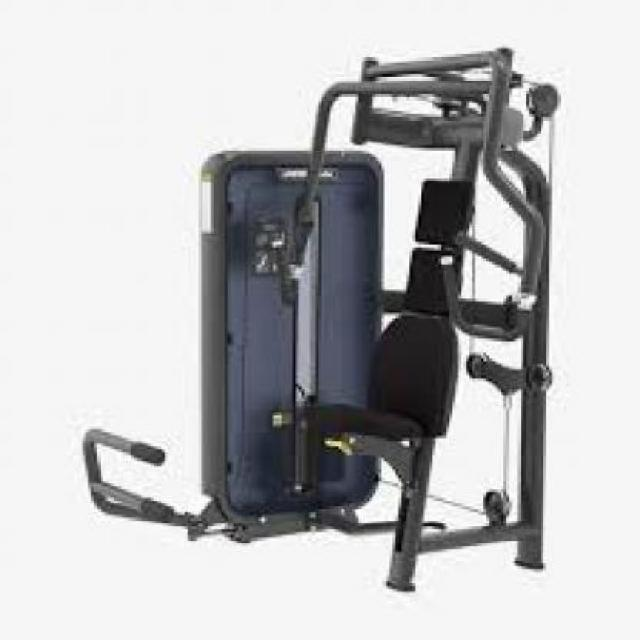shoulder press machine: (75, 34, 577, 609)
